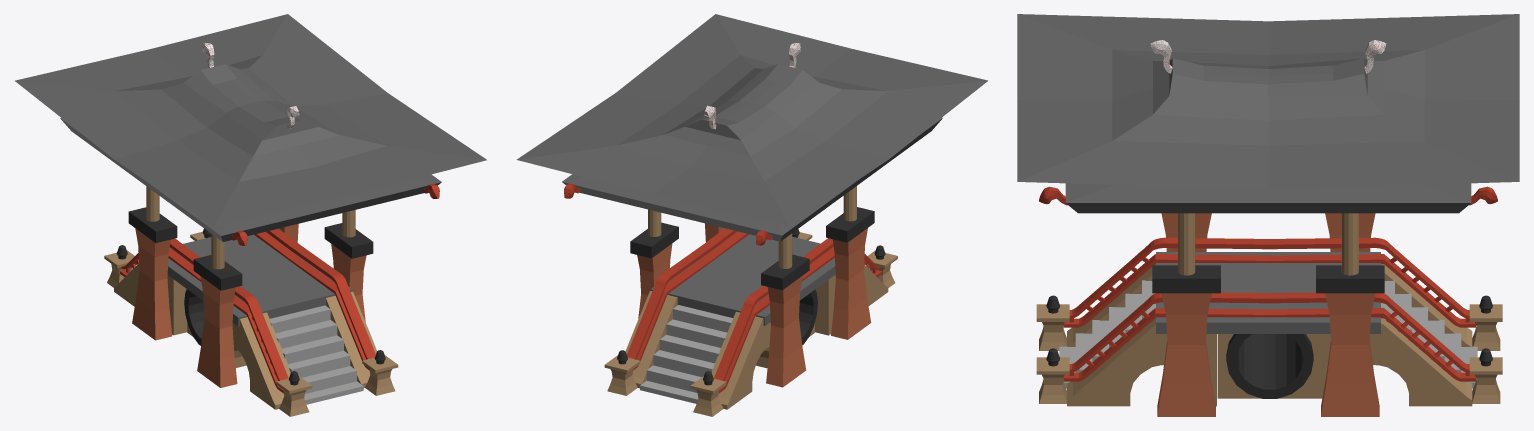
Rendered from BridgeFixed.fbx.
3 views of the same model, side by side, from view 1: azimuth 30°, elevation 25°; view 2: azimuth 150°, elevation 25°; view 3: azimuth 270°, elevation 25° (orthographic). The views are drawn at different scales.
Parts seen in each view (by area): view 1: Plane.006, Plane.001, Plane.003, Plane.004, Plane.005, Plane.002, Plane, Circle; view 2: Plane.006, Plane.001, Plane.003, Plane.004, Plane.002, Plane.005, Plane, Circle; view 3: Plane.006, Plane.001, Plane.004, Plane.002, Plane.003, Plane, Circle, Plane.005, Cube, Plane.008, Plane.011.
Part boxes in pixels (bbox=[...]): Plane.006: bbox=[15, 14, 486, 241]; Plane.001: bbox=[128, 186, 373, 387]; Plane.003: bbox=[167, 234, 352, 326]; Plane.004: bbox=[120, 228, 375, 393]; Plane.005: bbox=[270, 305, 363, 404]; Plane.002: bbox=[114, 263, 376, 409]; Plane: bbox=[104, 228, 398, 416]; Circle: bbox=[184, 289, 204, 345]; Plane.006: bbox=[516, 14, 987, 241]; Plane.001: bbox=[630, 186, 874, 387]; Plane.003: bbox=[650, 234, 835, 325]; Plane.004: bbox=[627, 228, 882, 393]; Plane.002: bbox=[625, 264, 888, 409]; Plane.005: bbox=[640, 305, 732, 403]; Plane: bbox=[604, 229, 897, 416]; Circle: bbox=[799, 289, 817, 345]; Plane.006: bbox=[1017, 14, 1519, 213]; Plane.001: bbox=[1152, 213, 1384, 416]; Plane.004: bbox=[1063, 237, 1475, 381]; Plane.002: bbox=[1067, 264, 1472, 406]; Plane.003: bbox=[1156, 252, 1380, 333]; Plane: bbox=[1036, 295, 1502, 403]; Circle: bbox=[1226, 334, 1313, 398]; Plane.005: bbox=[1059, 280, 1477, 388]; Cube: bbox=[1217, 334, 1322, 398]; Plane.008: bbox=[1150, 40, 1386, 73]; Plane.011: bbox=[1039, 186, 1497, 205].
Bounding box in the file's own units: 2362 × 2162 × 2985.
